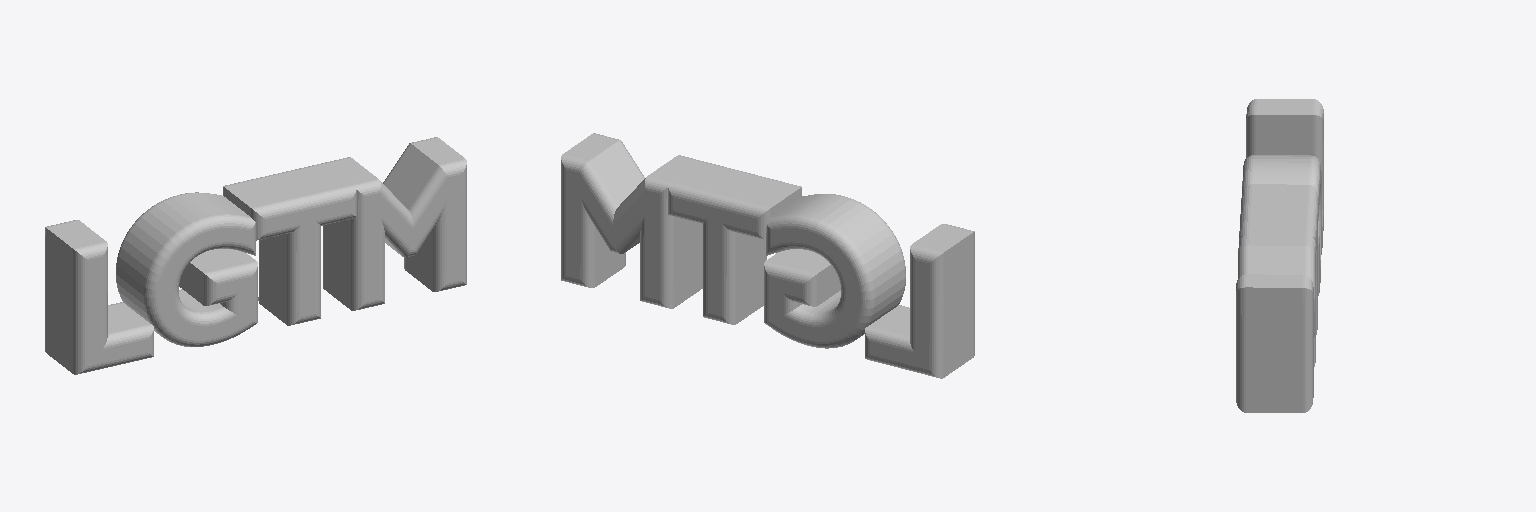
The model's file is glassLGTM.obj.
3 views of the same model, side by side, from view 1: azimuth 30°, elevation 25°; view 2: azimuth 150°, elevation 25°; view 3: azimuth 270°, elevation 25° (orthographic).
Parts seen in each view (by area): view 1: Text; view 2: Text; view 3: Text.
Boxes of the visible parts, <box> form: Text: <box>45,137,466,374</box>; Text: <box>561,133,974,378</box>; Text: <box>1236,99,1323,412</box>.
Bounding box in the file's own units: 9.03 × 2.85 × 1.78.